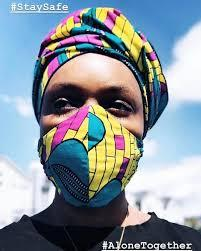Wearing Mask: (25, 4, 172, 213)
